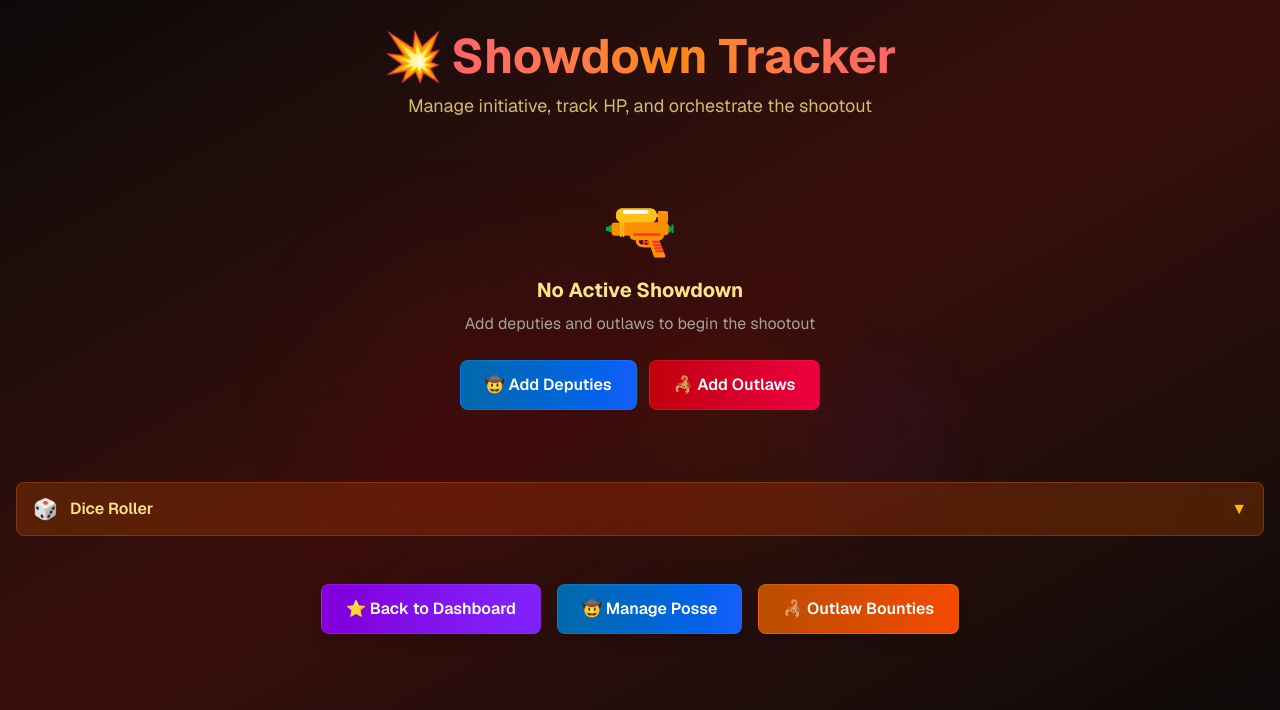
Scenario: CombatPage › dice roller panel › should expand dice roller panel when toggle is clicked
The image size is (1280, 710).
Click the button "🎲 Dice Roller ▼". click: [112, 508]
box: top-left (16, 482), bottom-right (1264, 536)
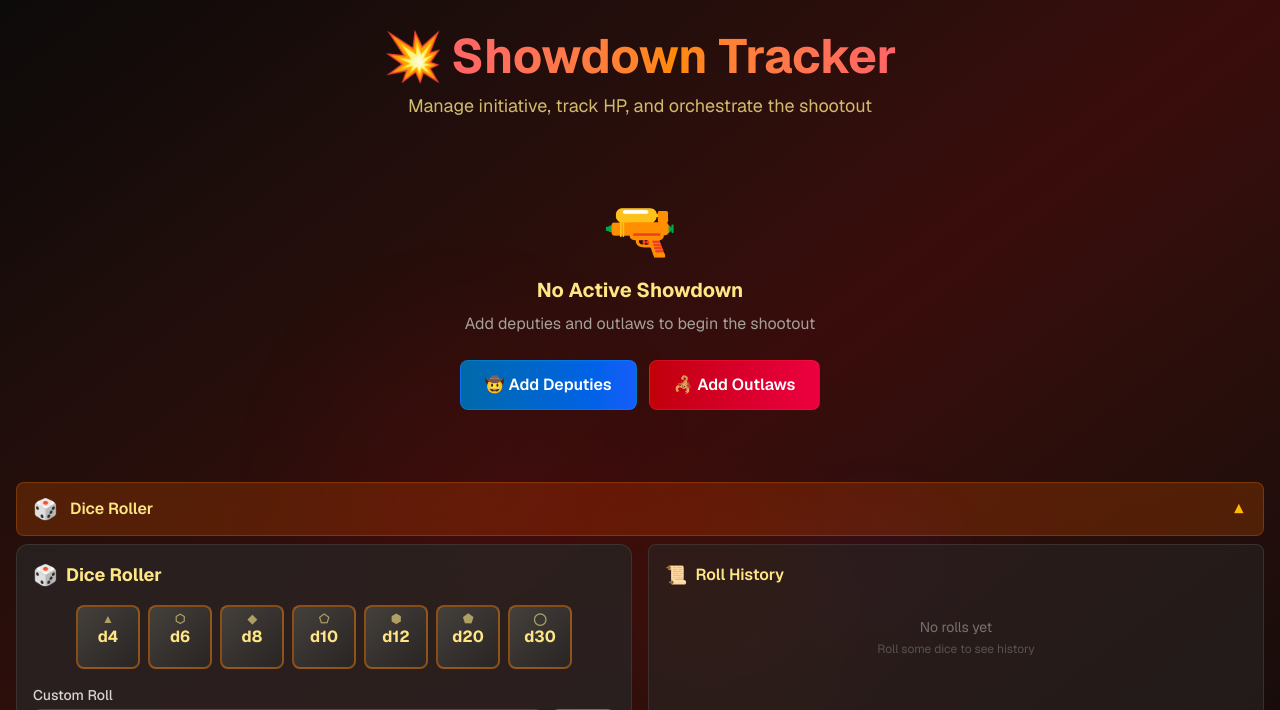
Expected: the button "🎲 Dice Roller ▼" is expanded, top-left (16, 482), bottom-right (1264, 536)
Expected: the button named "roll d20" is shown, top-left (436, 605), bottom-right (500, 669)
